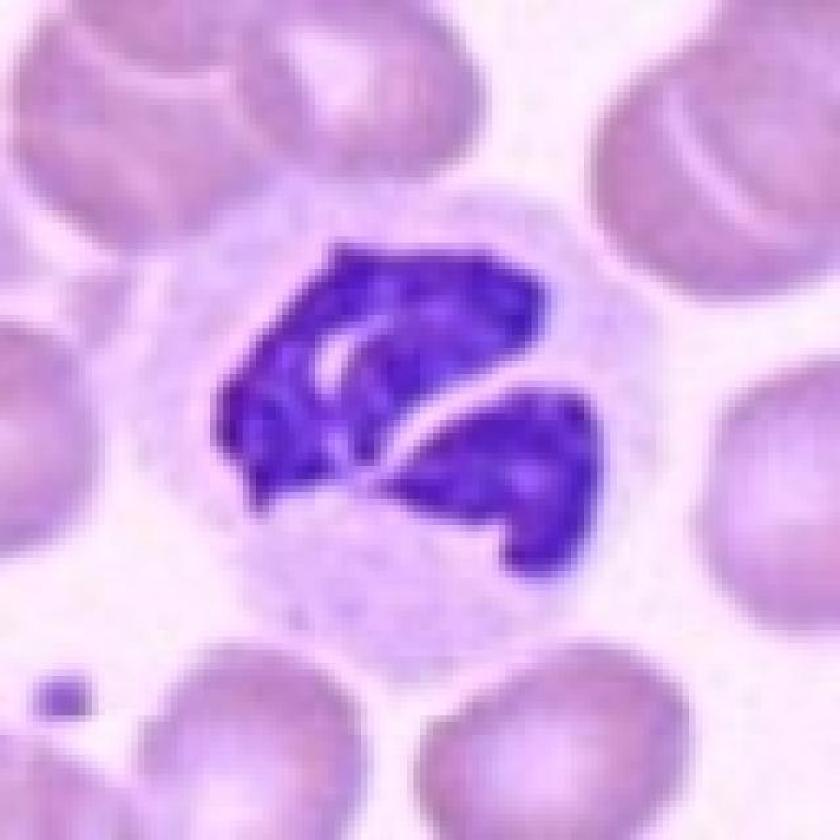neutrophil: (135, 102, 739, 677)
